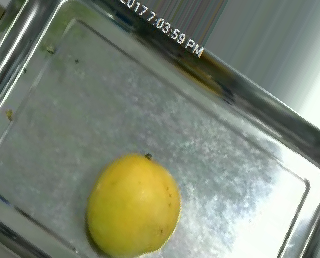Mango: (89, 151, 180, 255)
